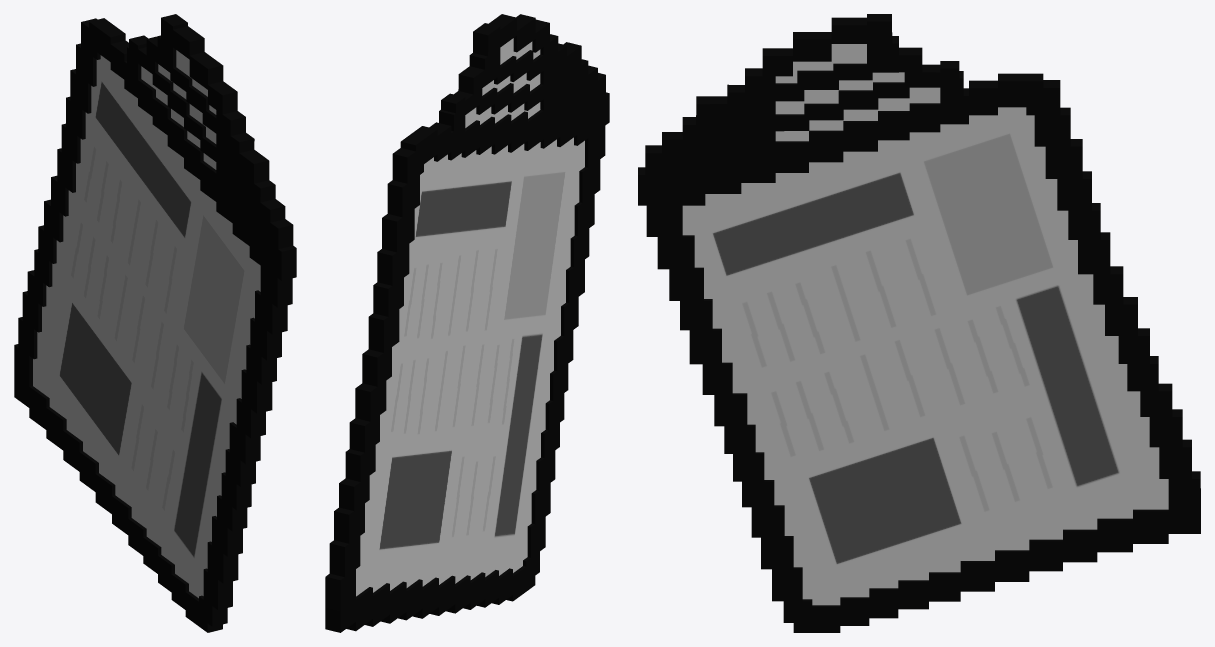
Rendered from 新聞紙.fbx.
3 renders of one model, left to right at view 1: azimuth 30°, elevation 25°; view 2: azimuth 150°, elevation 25°; view 3: azimuth 270°, elevation 25°, orthographic. The views are drawn at different scales.
Visible parts, largest first — view 1: newsPaper; view 2: newsPaper; view 3: newsPaper.
Boxes of the visible parts, x1,y1,x2,y2 form: newsPaper: (14,14,296,632); newsPaper: (325,14,609,632); newsPaper: (638,14,1200,632).
Bounding box in the file's own units: 0.0102 × 0.3094 × 0.3707.
